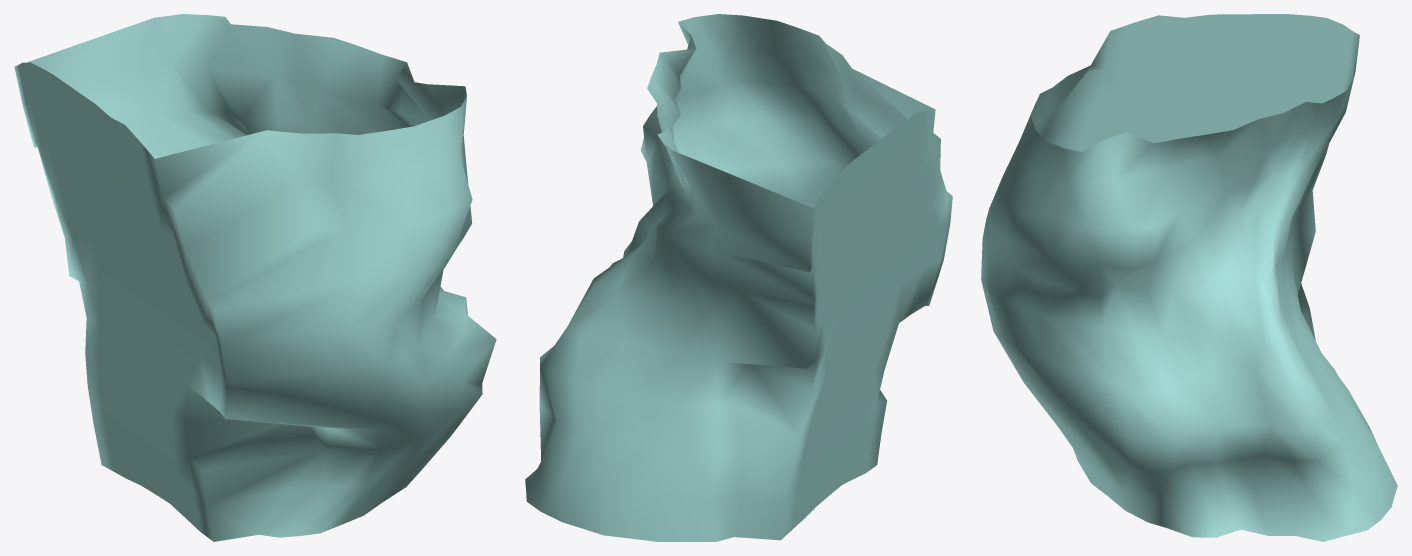
Rendered from icestage2.FBX.
The picture shows the model from 3 angles, left to right: view 1: azimuth 30°, elevation 25°; view 2: azimuth 150°, elevation 25°; view 3: azimuth 270°, elevation 25°; orthographic projection. The views are drawn at different scales.
Parts seen in each view (by area): view 1: Cylinder001; view 2: Cylinder001; view 3: Cylinder001.
Boxes of the visible parts, x1,y1,x2,y2 form: Cylinder001: [14, 14, 496, 541]; Cylinder001: [525, 14, 952, 541]; Cylinder001: [981, 14, 1397, 541].
Size of the model in its own units: 116 by 129 by 128.
